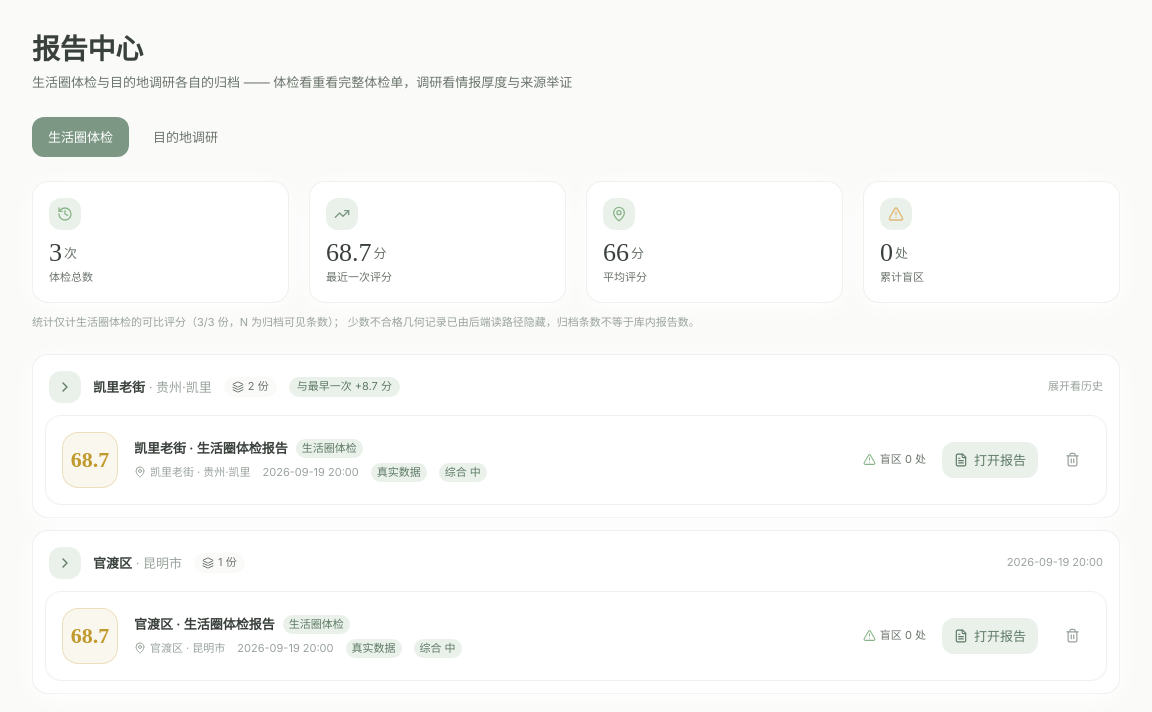
Scenario: 报告中心 · 生活圈屏按样区折叠 › 同一样区默认只显最新一份，展开才出历史
Expected: the number of buttons "凯里老街 · 生活圈体检报告" is 1, [134, 438, 288, 459]
Click the button "凯里老街 · 贵州·凯里 2 份 与最早一次 +8.7 分 展开看历史". click: (65, 387)
box: [45, 367, 1107, 407]
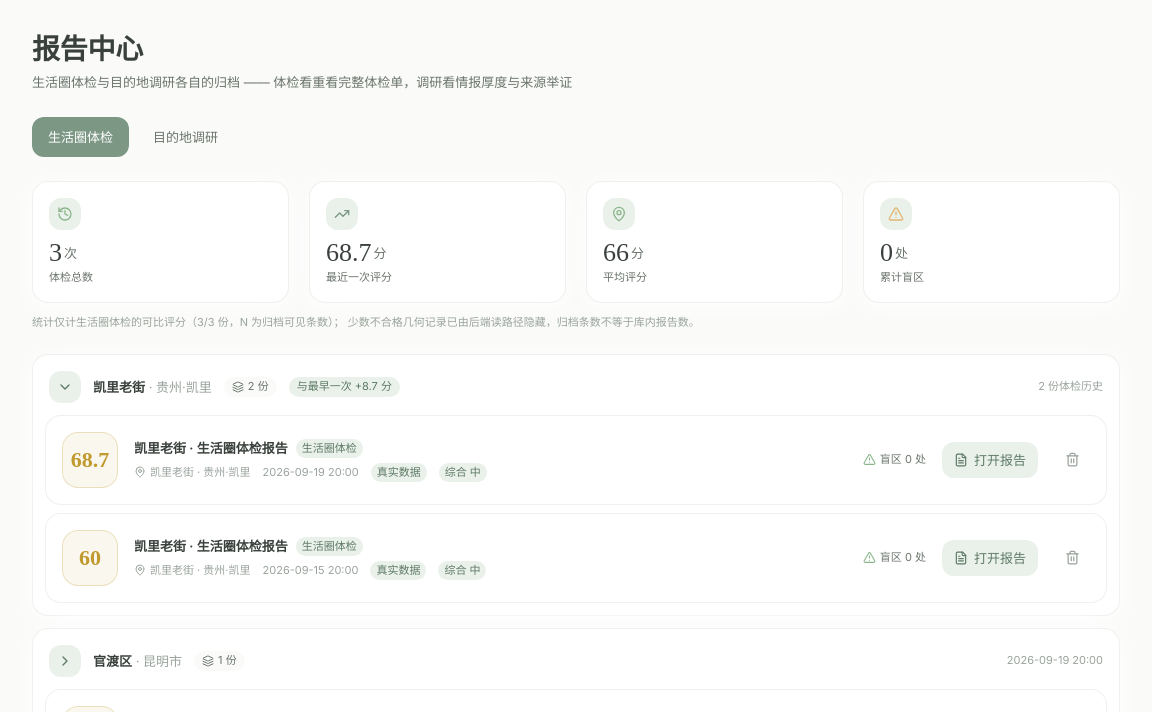
Now the number of buttons "凯里老街 · 生活圈体检报告" is 2, box [134, 438, 288, 459]; [134, 536, 288, 557]
